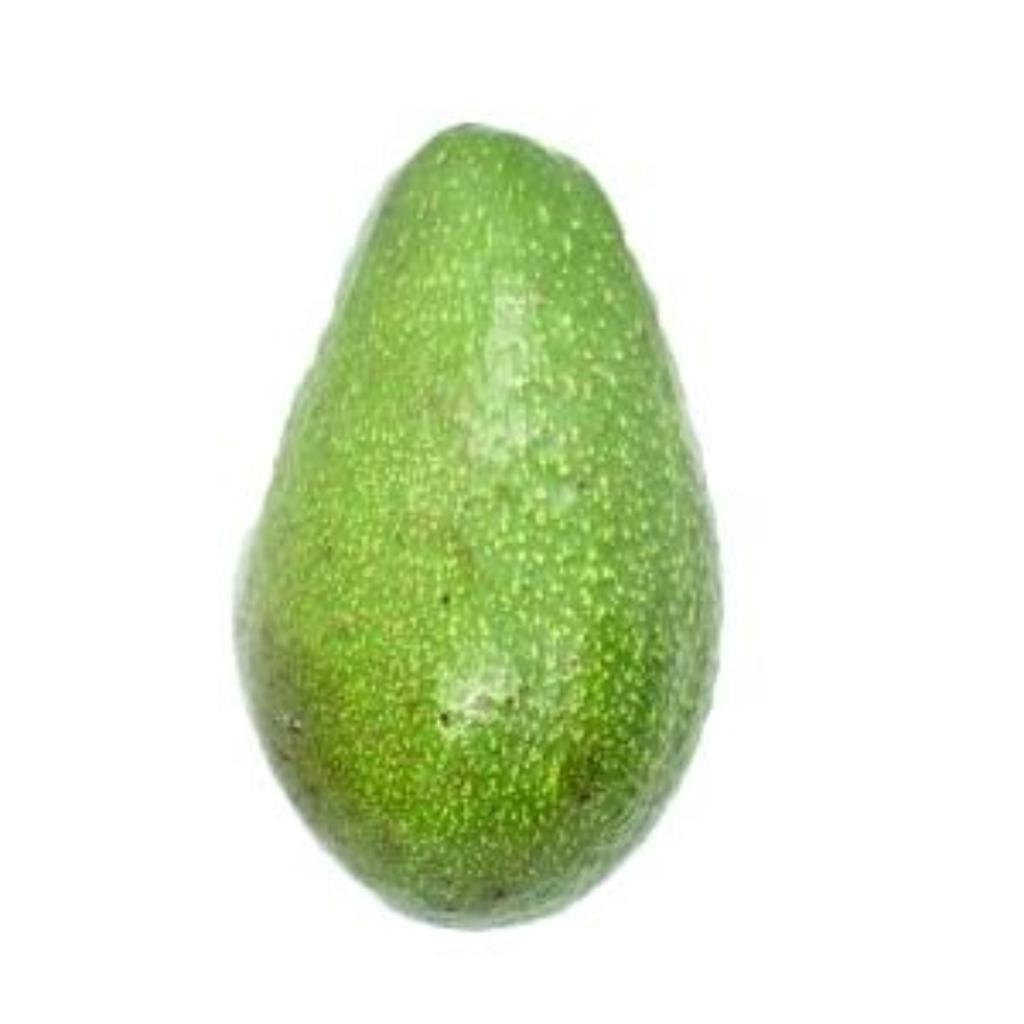cercospora_spot: (238, 110, 734, 938)
